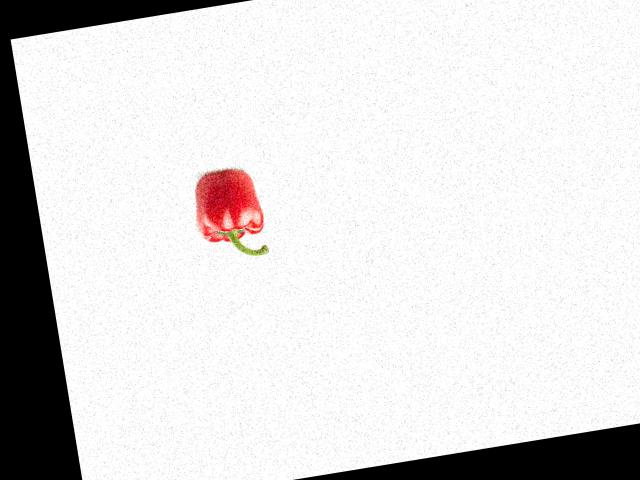bell_pepper: (190, 164, 272, 265)
